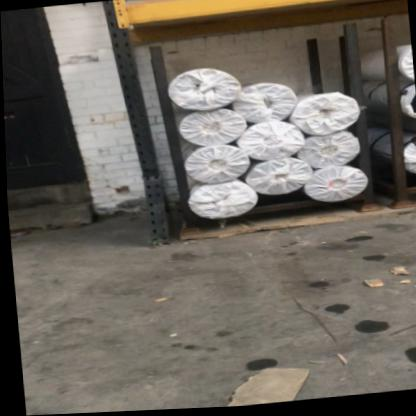vertical_damage: (132, 158, 168, 200)
